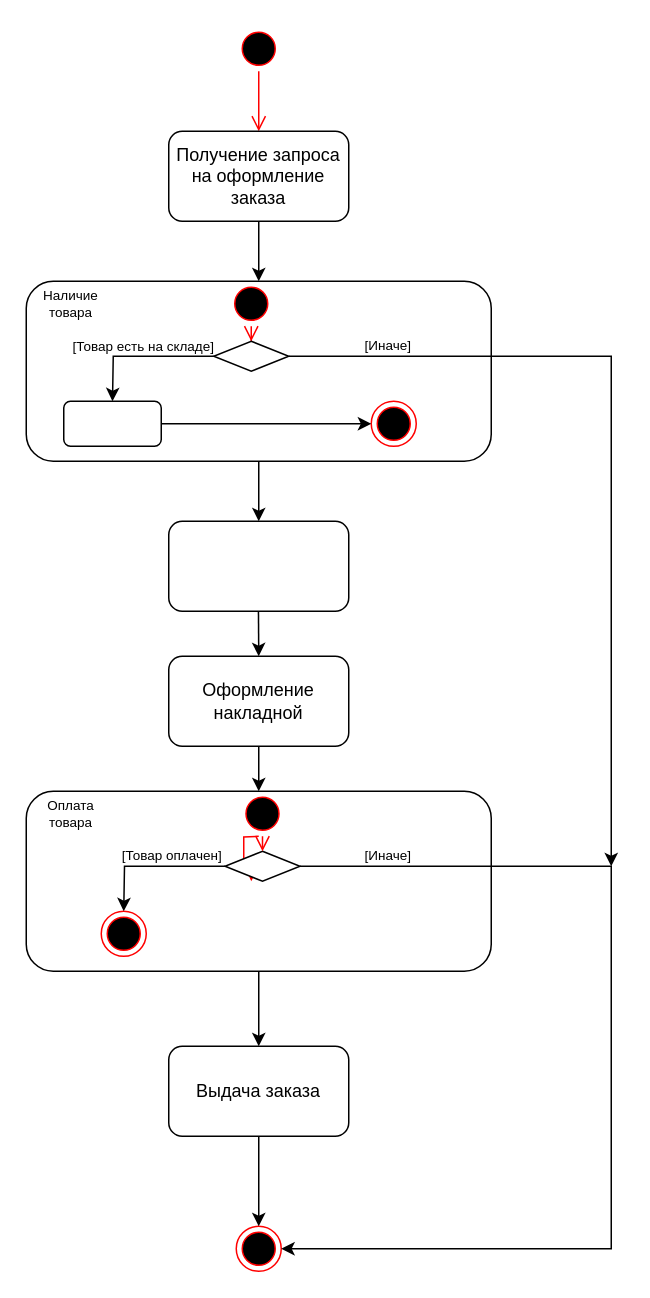
Some shapes in this 650 by 1298 pixel diagram are drawn without their labels. The centre of each missing label's shape, as x and y in pixels:
"Оформление заказа" belongs at point 111,423.
"Оформление счета" belongs at point 258,565.
